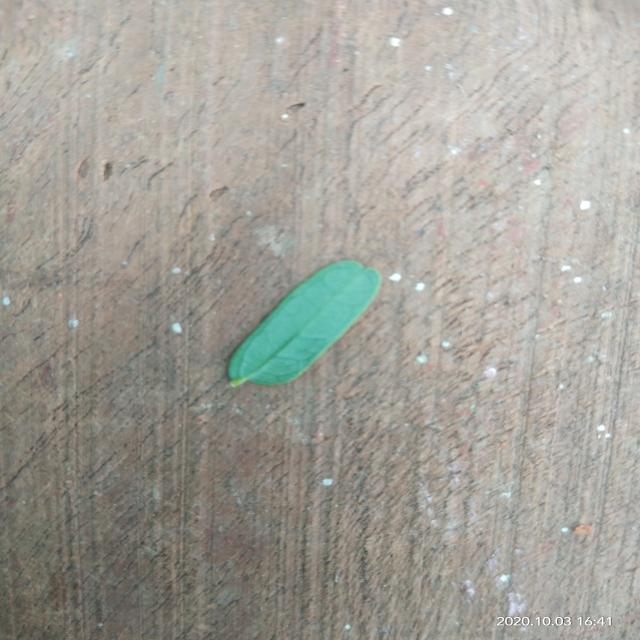tamarind: (228, 260, 382, 386)
